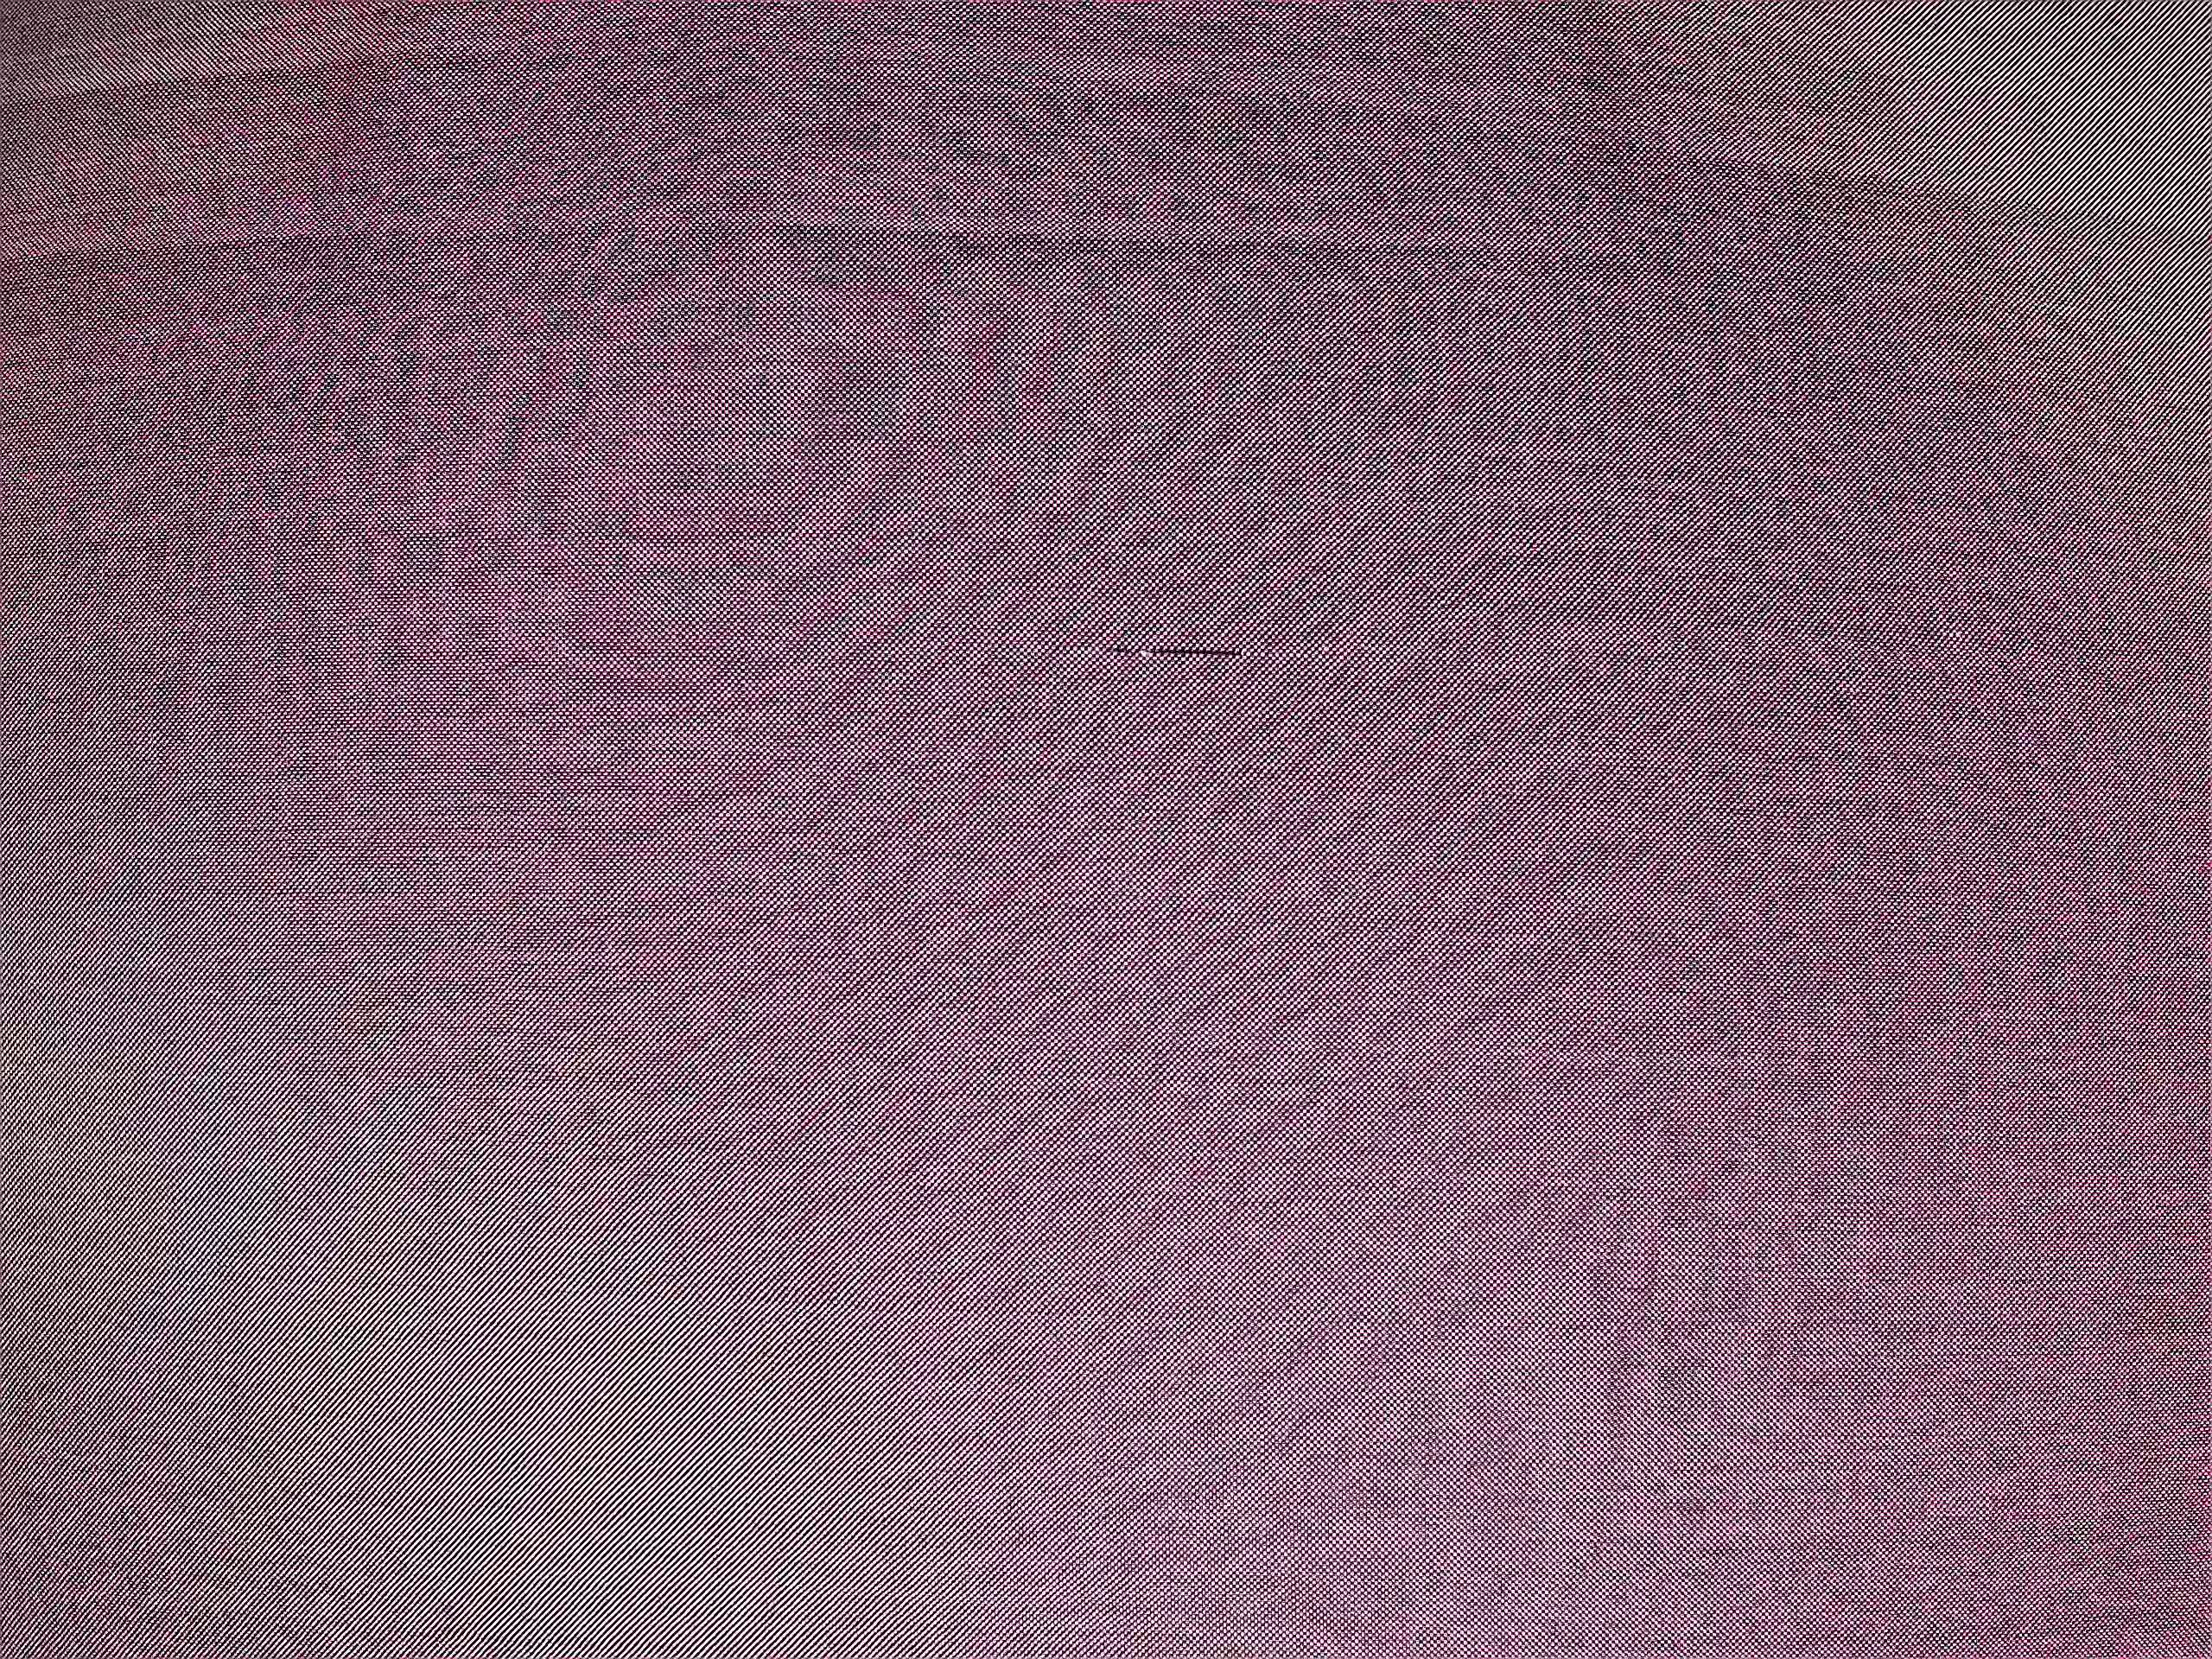thin-spinning: (961, 619, 1576, 683)
